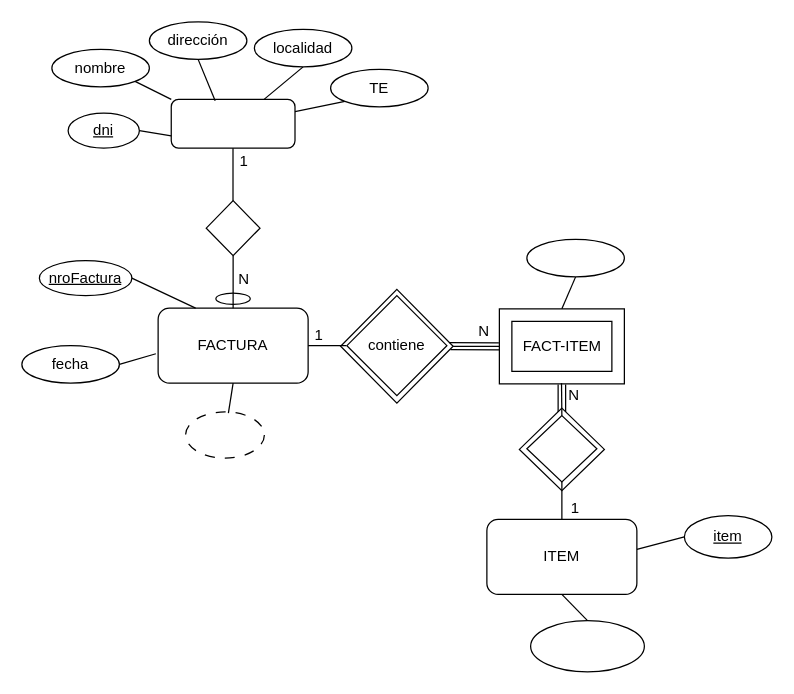
This 794x694 diagram has some shape labels left out. The shapes that lost their labels are listed below. From the top down, each one's centre as x and y in pixels, then its label:
At (232,123): "CLIENTE".
At (232,227): "recibe".
At (575,257): "cantidad".
At (224,434): "importe".
At (561,448): "incluye".
At (586,645): "descripción".
